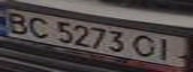2: (69, 23, 93, 48)
3: (106, 28, 130, 55)
5: (51, 18, 75, 44)
7: (87, 25, 109, 51)
B: (0, 9, 33, 35)
C: (24, 15, 54, 39)
I: (151, 36, 181, 62)
O: (130, 33, 160, 58)
